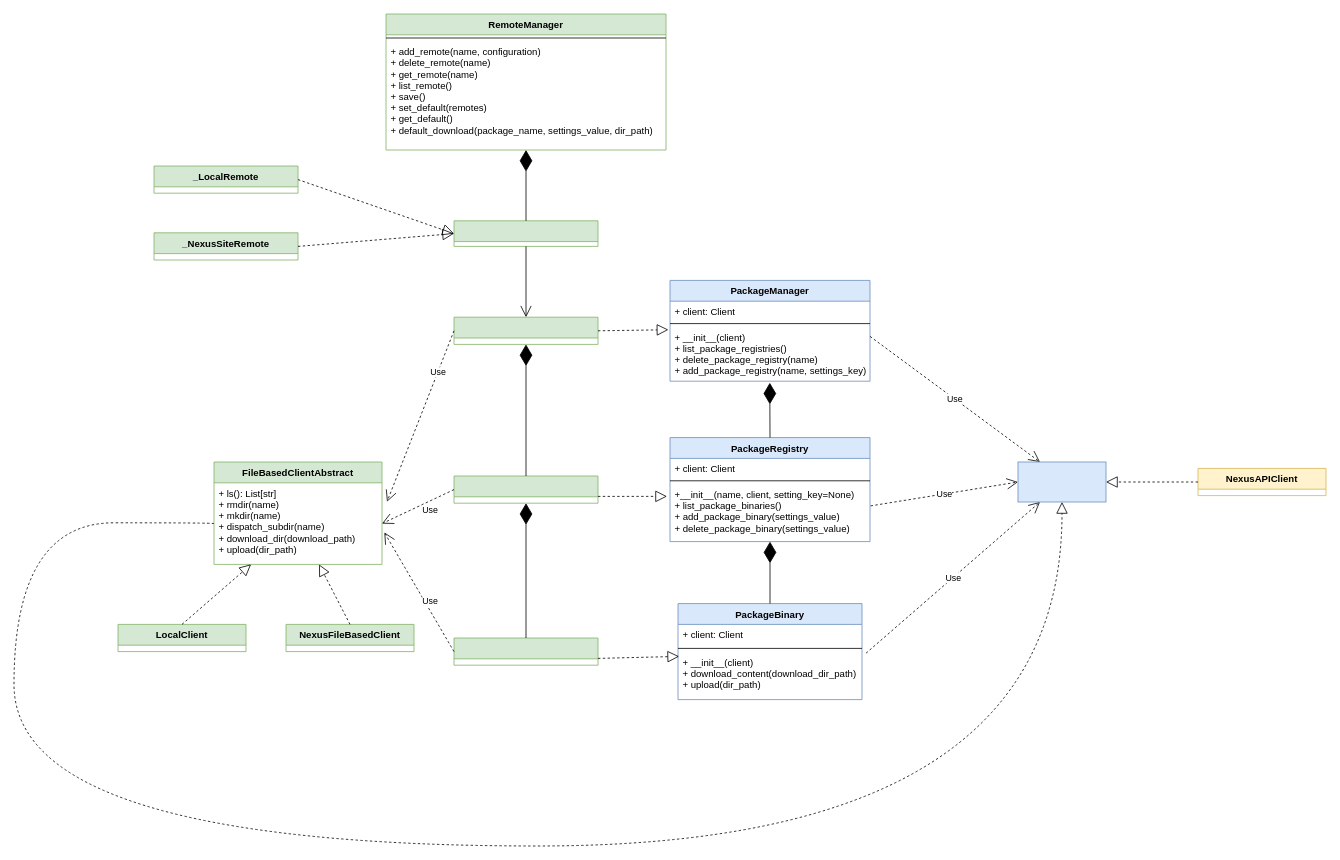
The diagram is 1340 pixels wide and 860 high, and some of its shapes have lost their labels. Here are the shapes that lost their labels. From the top down, the centre of each, then its label:
At point (525, 233): "_RemoteFileBased".
At point (525, 330): "PackageManagerFileBased".
At point (525, 489): "PackageRegistryFileBased".
At point (1061, 481): "«interface» ClientAbstract".
At point (525, 651): "PackageBinaryFileBased".
